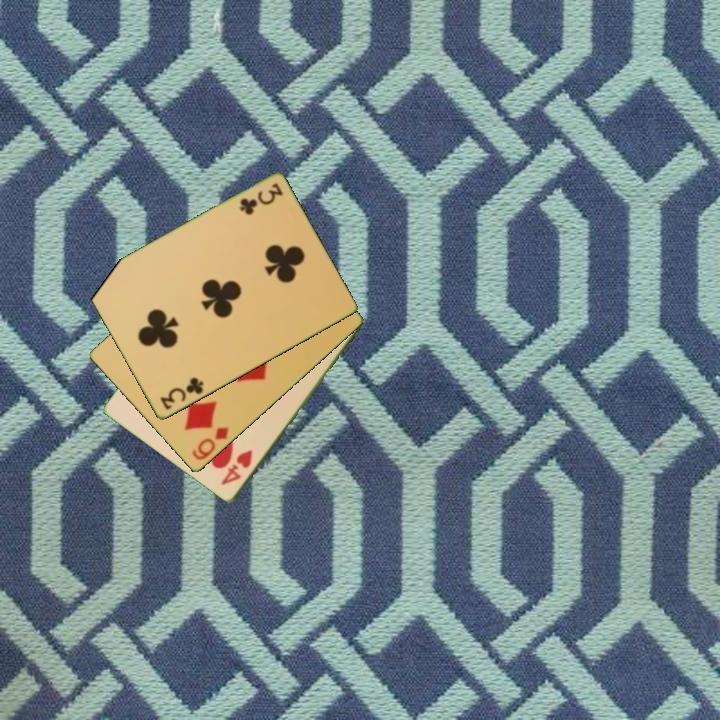3c: (156, 374, 206, 413), (236, 180, 286, 218)
4h: (218, 447, 256, 489)
6d: (188, 424, 232, 464)
